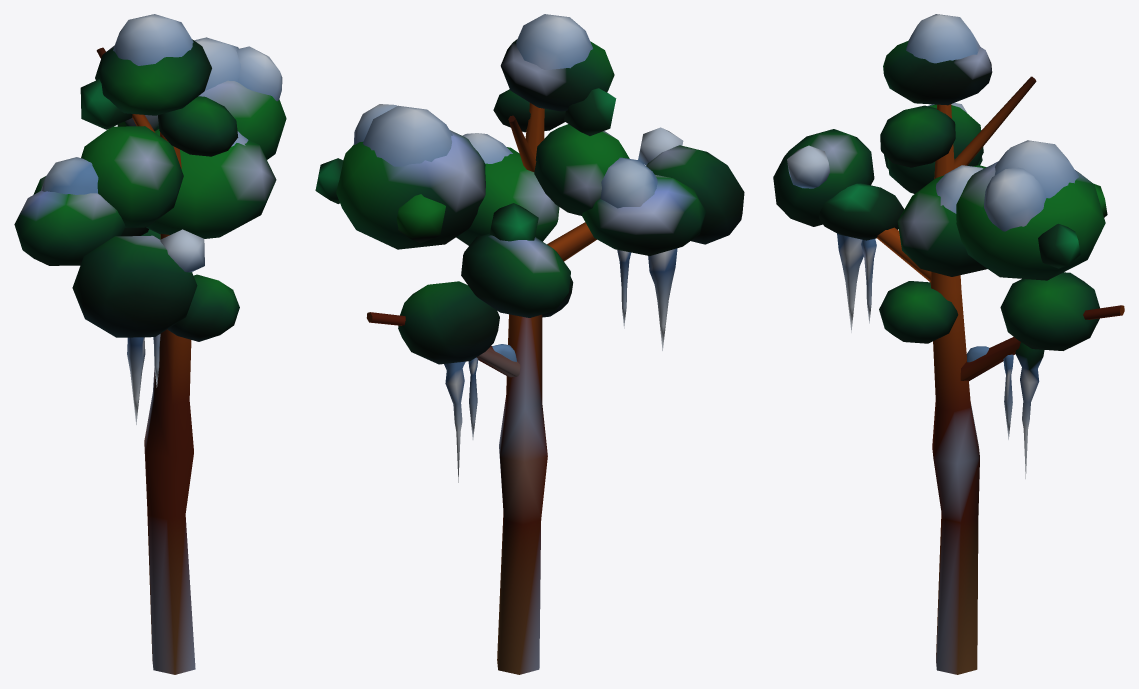
The model's file is Pine_02.fbx.
3 views of the same model, side by side, from view 1: azimuth 30°, elevation 25°; view 2: azimuth 150°, elevation 25°; view 3: azimuth 270°, elevation 25° (orthographic). The views are drawn at different scales.
Visible parts, largest first — view 1: Pine_02; view 2: Pine_02; view 3: Pine_02.
Part boxes in pixels (box(x1,y1,x2,y2)): Pine_02: box(14, 14, 286, 674); Pine_02: box(315, 14, 744, 674); Pine_02: box(773, 14, 1124, 674).
Size of the model in its own units: 3071 by 6052 by 3040.
